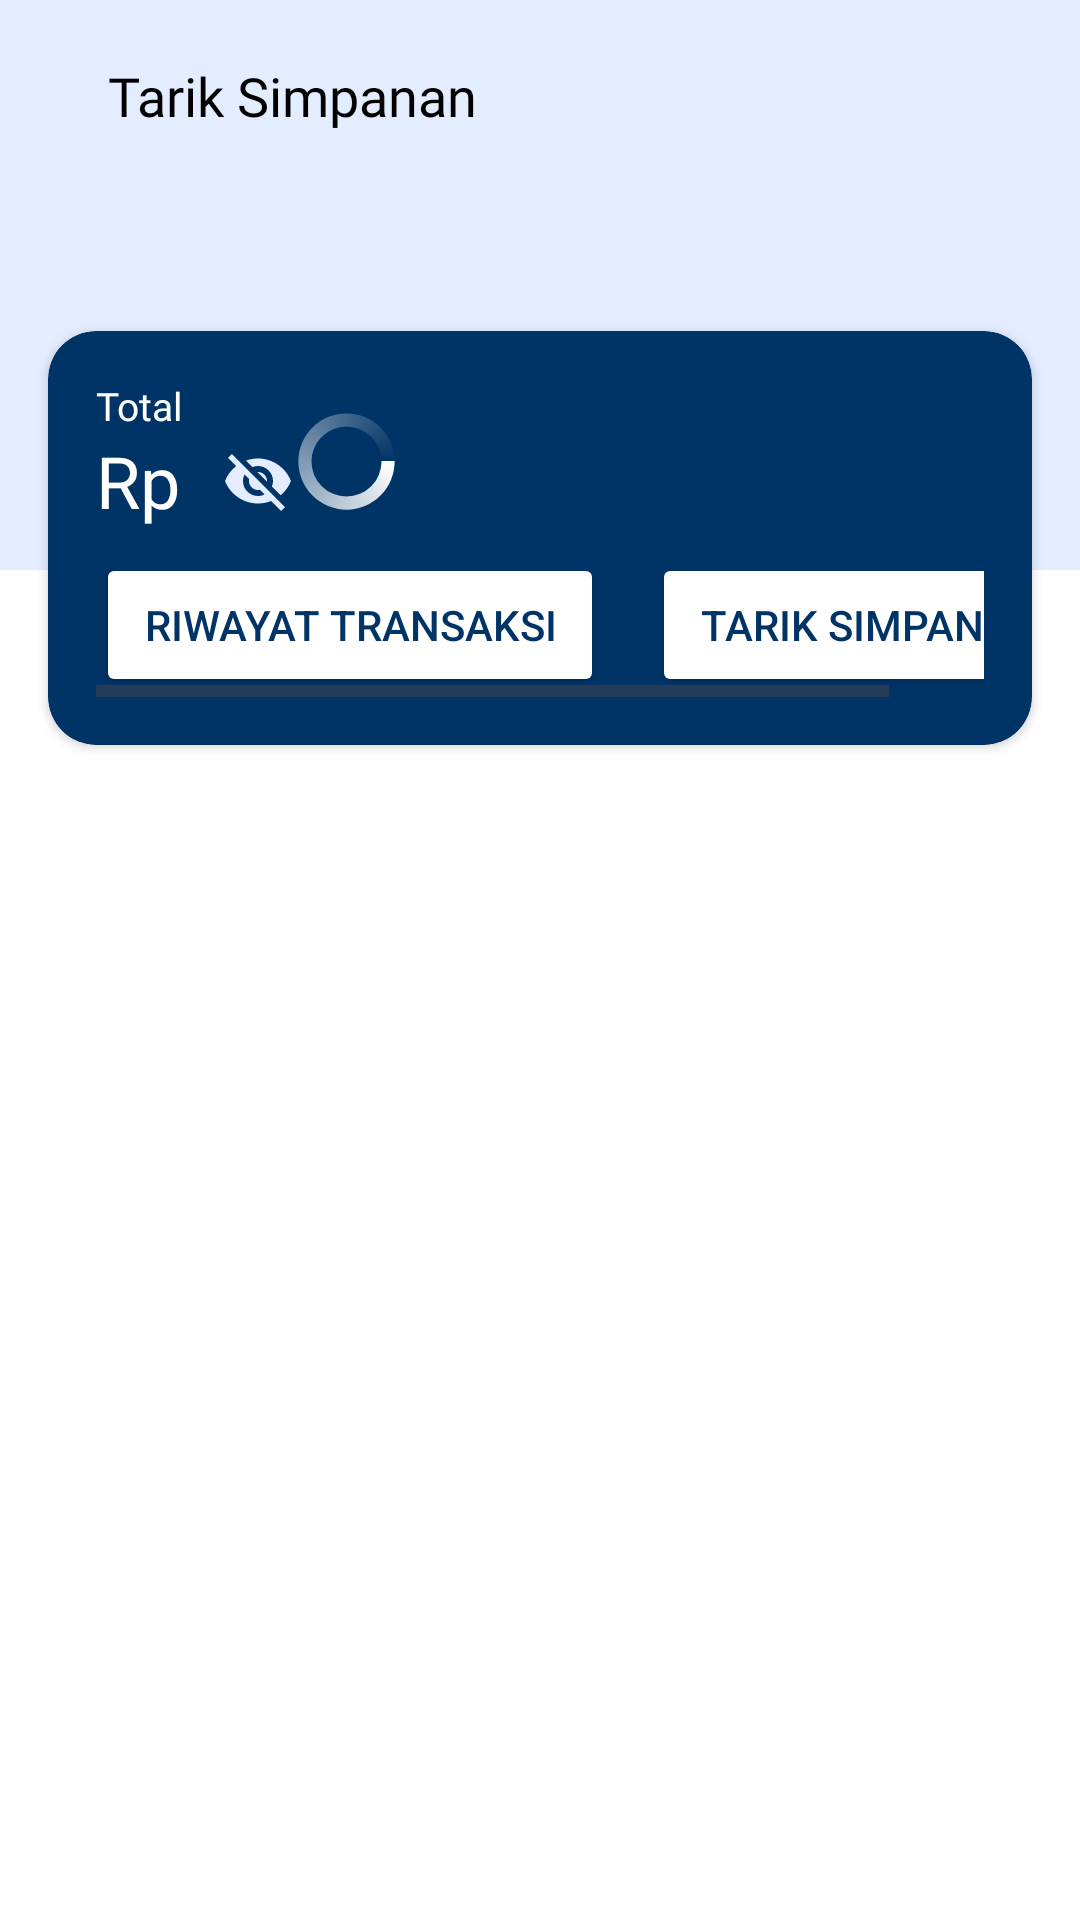

Where icons sit on this 1080px x 1920px app screen, as (x1, y1, x2, y2):
visibility off: (225, 454, 291, 511)
